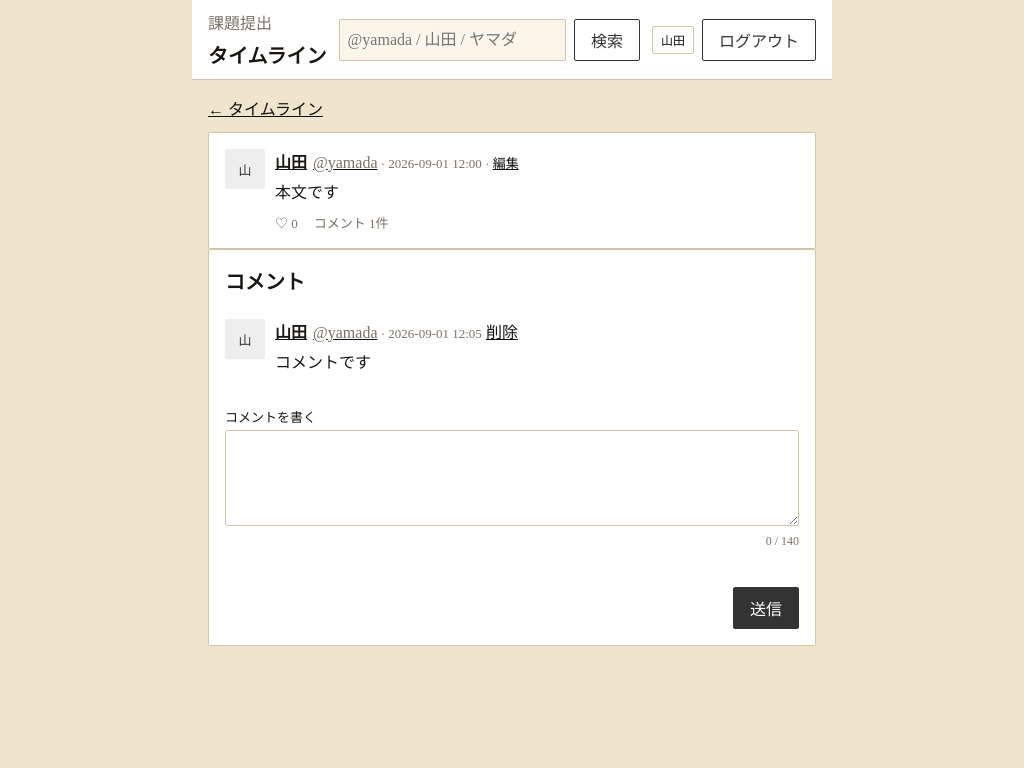
Test: PostDetailPage › keeps the comment when delete API fails
The image size is (1024, 768).
Expected: the text "コメントです" is shown, [275,354,371,371]
Click the button "削除" at (502, 331), box [486,319,518,343]
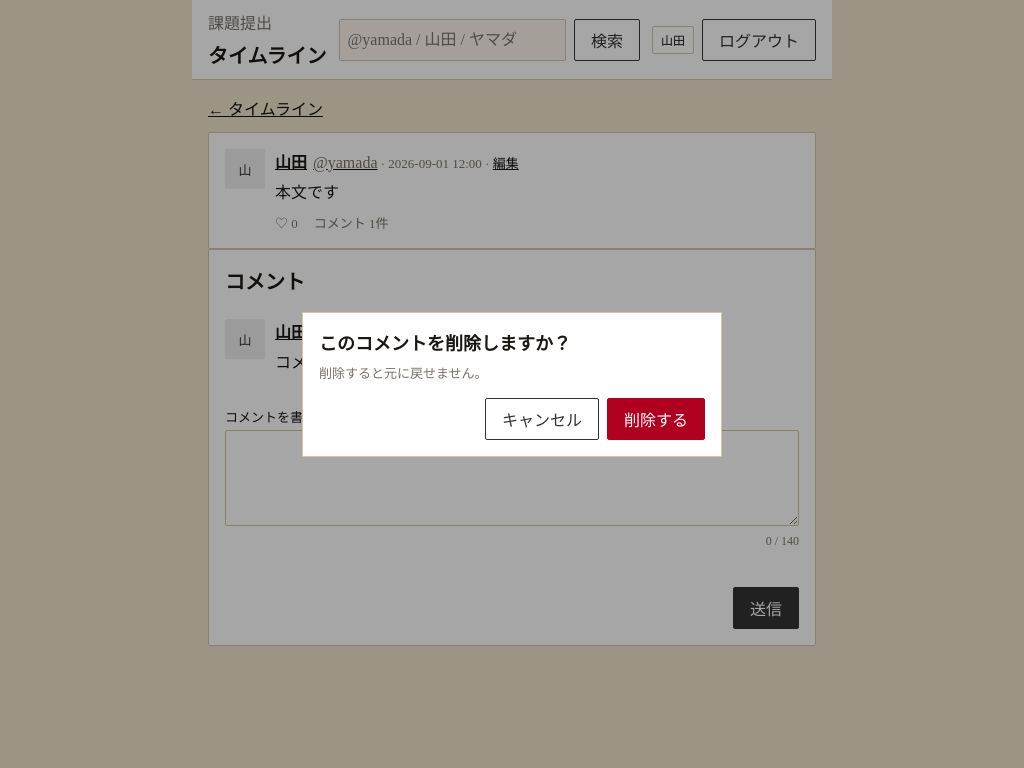
Click the button "削除する" at (656, 418), box [607,398,705,440]
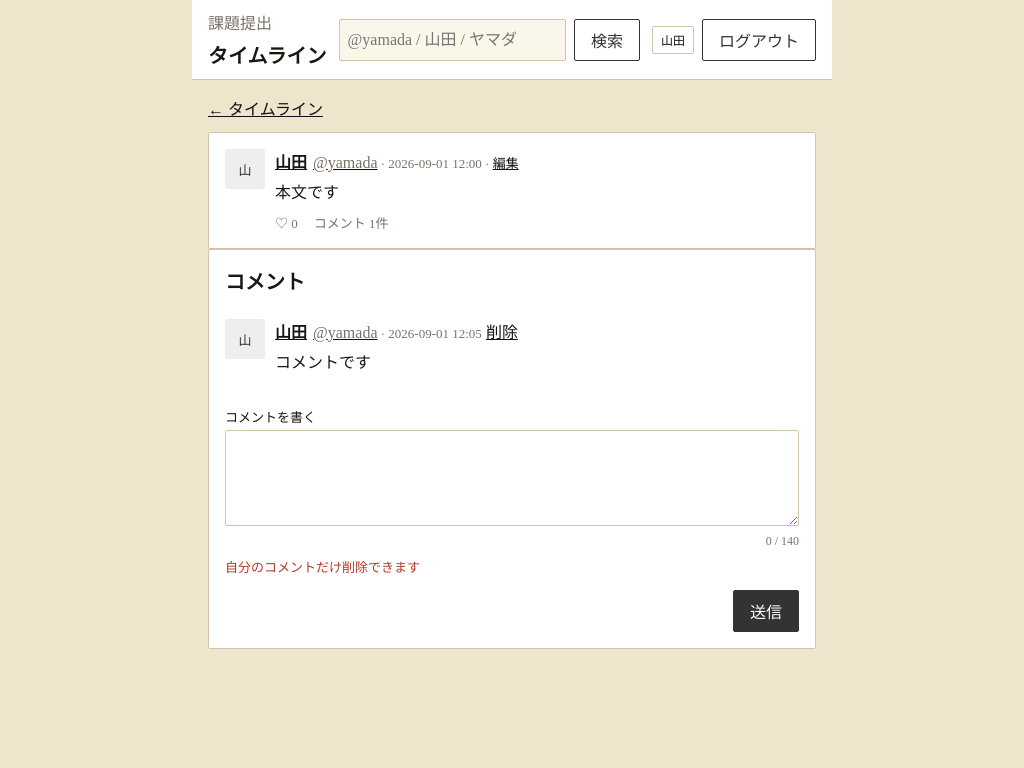
Expected: the text "コメントです" is shown, [275,354,371,371]
Now the text "自分のコメントだけ削除できます" is shown, box [225,560,420,575]
